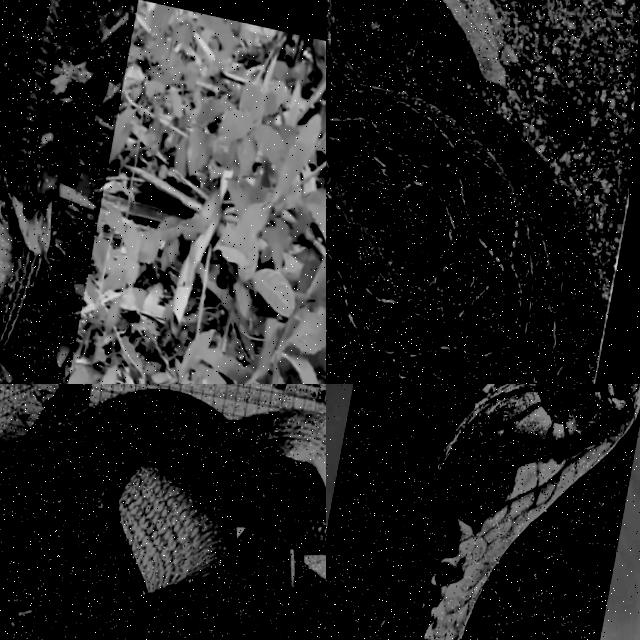Daboia siamensis: (326, 0, 602, 383)
Ophiophagus hannah: (0, 390, 325, 639), (371, 384, 639, 639), (0, 0, 67, 383)
snake: (326, 0, 602, 383), (0, 390, 325, 639), (371, 384, 639, 639), (0, 0, 67, 383)
